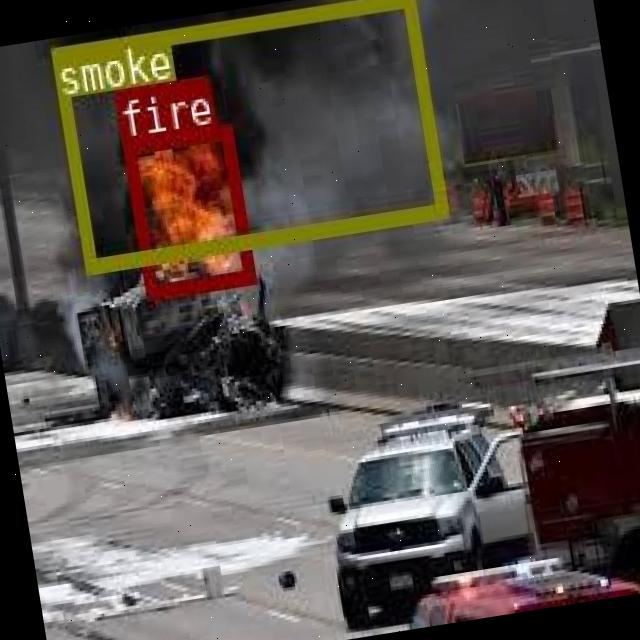fire: (122, 124, 254, 296)
smoke: (48, 0, 446, 271)
